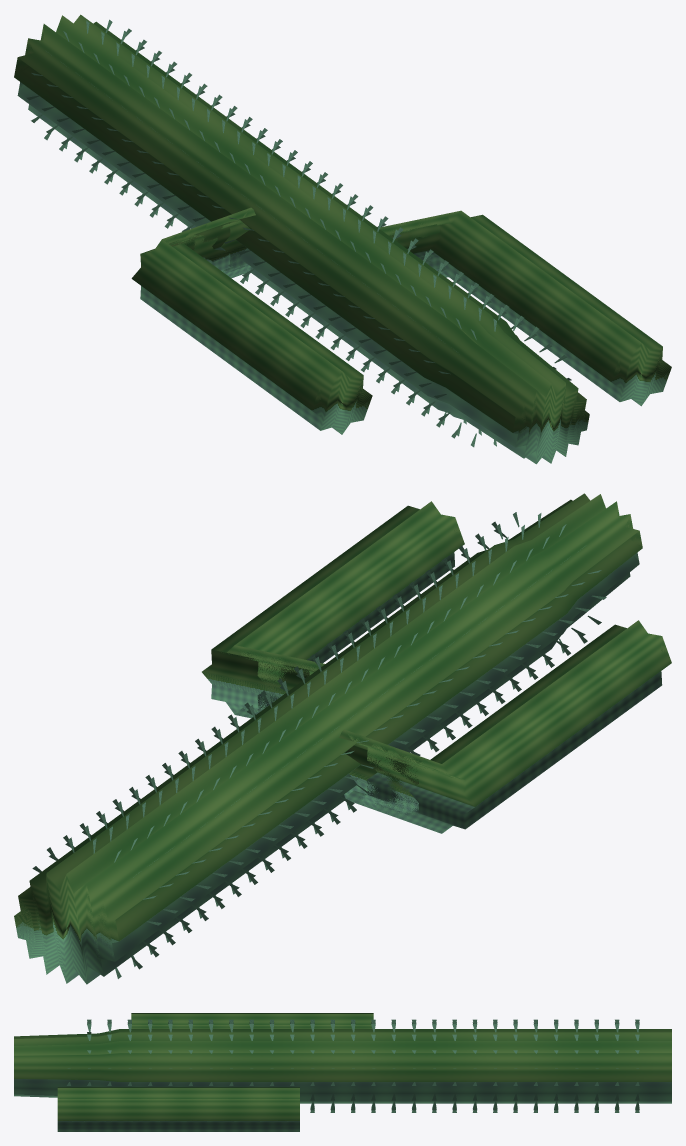
The model's file is veg_succulent_saguaro_01.obj.
3 renders of one model, top to bottom at view 1: azimuth 30°, elevation 25°; view 2: azimuth 150°, elevation 25°; view 3: azimuth 270°, elevation 25°, orthographic. The views are drawn at different scales.
Parts seen in each view (by area): view 1: veg_succulent_saguaro_01; view 2: veg_succulent_saguaro_01; view 3: veg_succulent_saguaro_01.
Boxes of the visible parts, left/top/right/bottom form: veg_succulent_saguaro_01: left=14, top=14, right=671, bottom=464; veg_succulent_saguaro_01: left=14, top=493, right=671, bottom=984; veg_succulent_saguaro_01: left=14, top=1013, right=671, bottom=1131.
Bounding box in the file's own units: 2.16 × 0.8516 × 6.
Materials: 1 (1 with a texture image).
